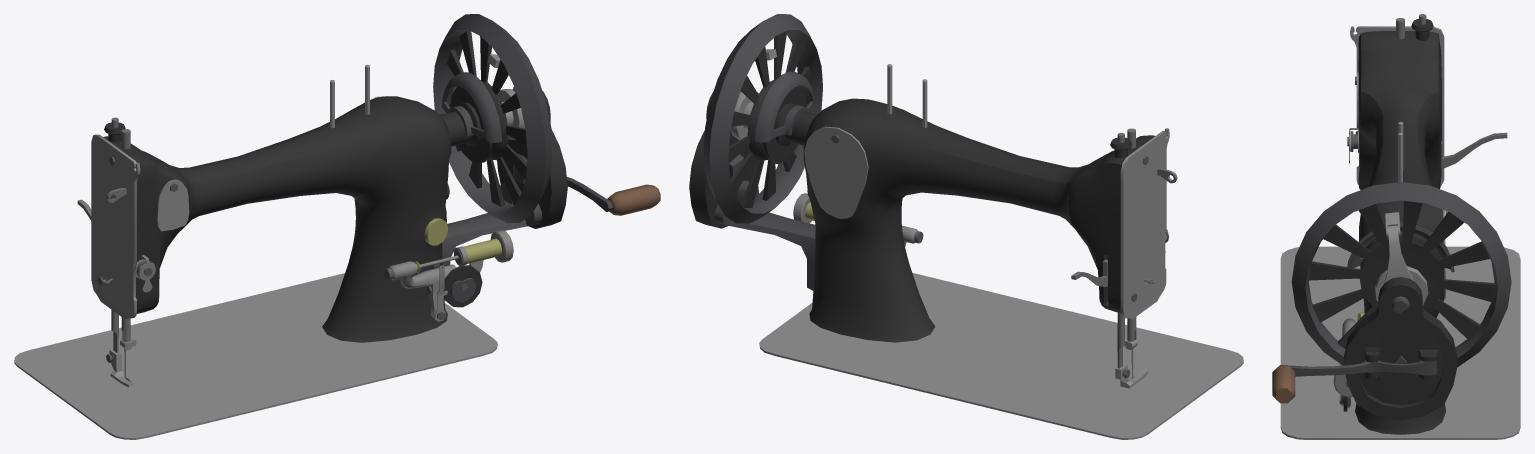
Rendered from sewing-machine-1.fbx.
3 views of the same model, side by side, from view 1: azimuth 30°, elevation 25°; view 2: azimuth 150°, elevation 25°; view 3: azimuth 270°, elevation 25° (orthographic). The views are drawn at different scales.
Parts seen in each view (by area): view 1: sewing-machine-1; view 2: sewing-machine-1; view 3: sewing-machine-1.
Part boxes in pixels (x1,y1,x2,y2): sewing-machine-1: [14, 14, 660, 439]; sewing-machine-1: [689, 14, 1243, 439]; sewing-machine-1: [1272, 14, 1520, 439].
Size of the model in its own units: 104 by 51.17 by 41.04.
Materials: 3 (3 with a texture image).
